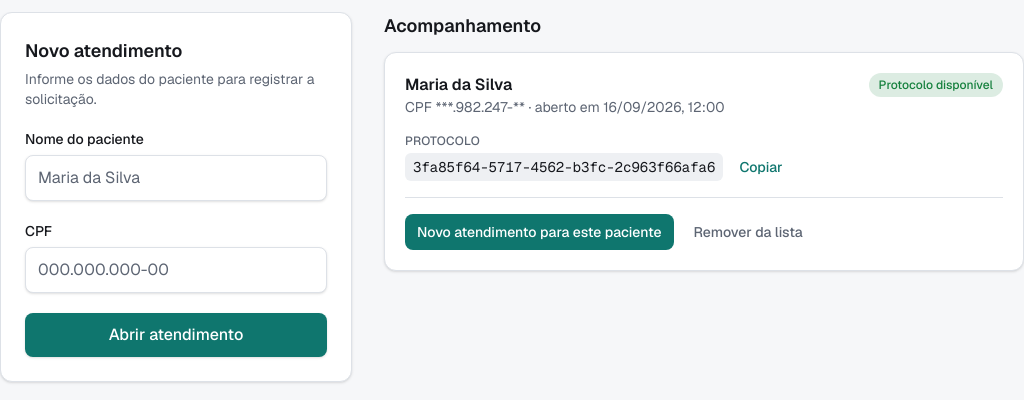
Test: AttendancePanel › remove da lista o atendimento dispensado
Click the button "Remover da lista".
click(748, 232)  # box [682,214,815,250]
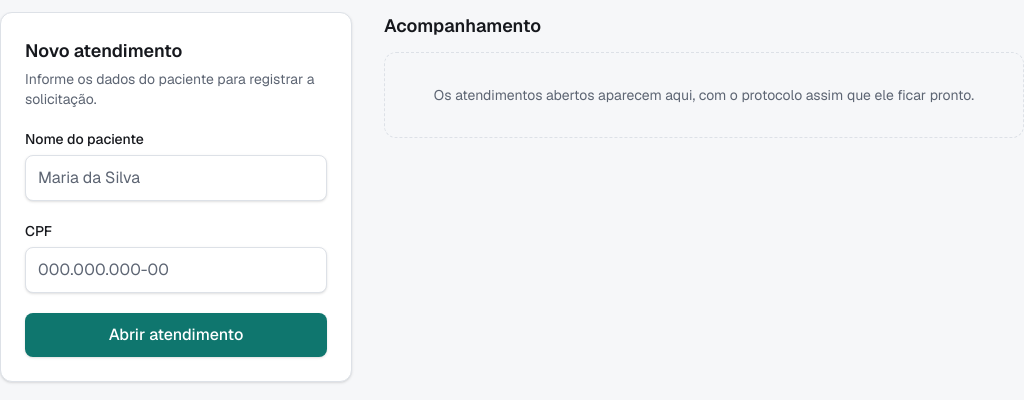
Check: the text "Os atendimentos abertos aparecem aqui" is shown, box [434,86,974,104]
